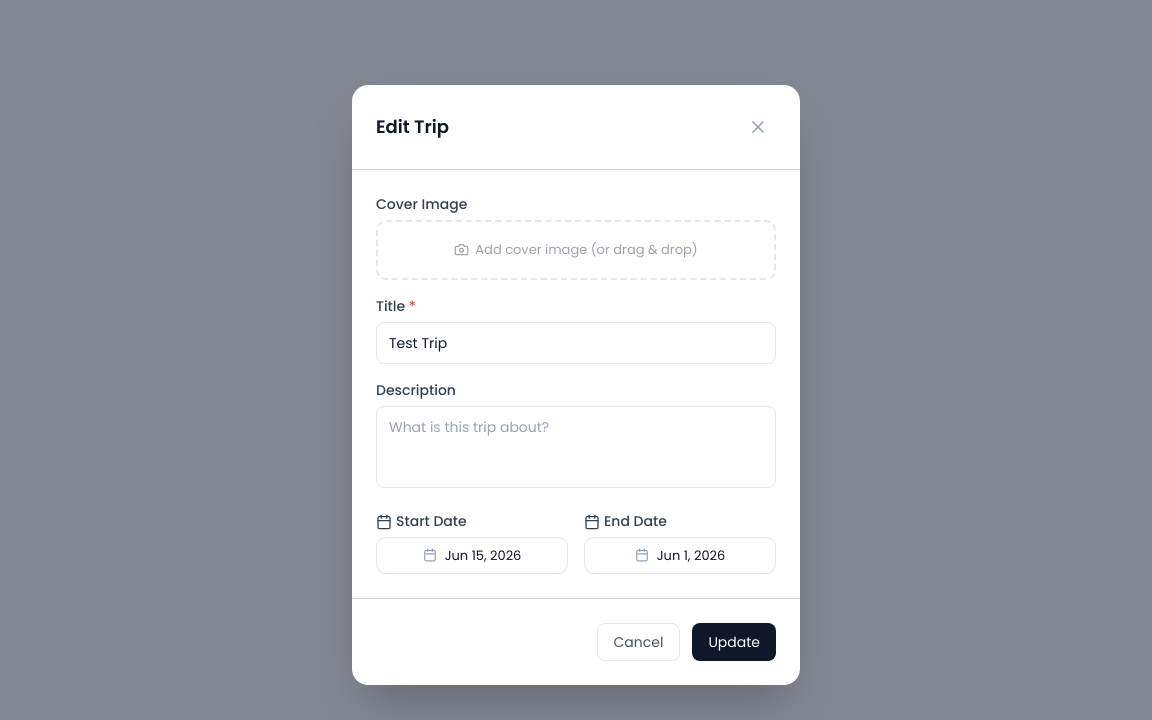
TripFormModal › FE-COMP-TRIPFORM-016: end-date validation shows error when end < start
Click the button "Update" at (734, 642), box [692,623,776,661]
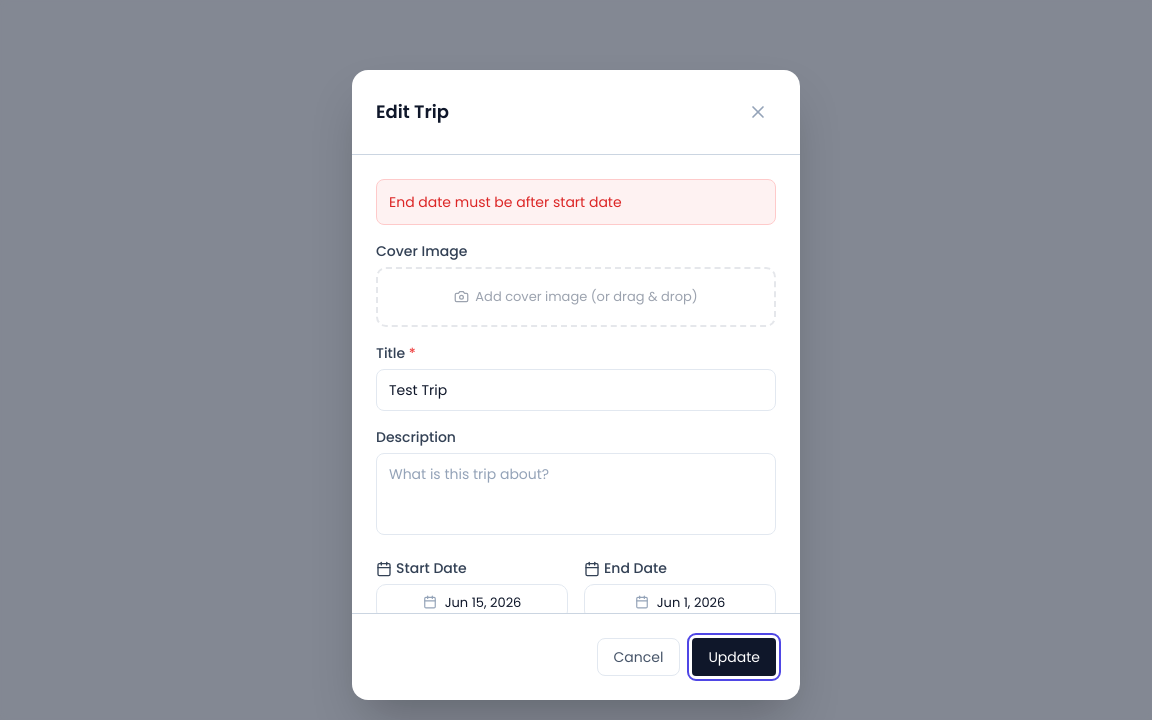
Expected: the text "End date must be after start date" is shown, [376,179,776,225]
